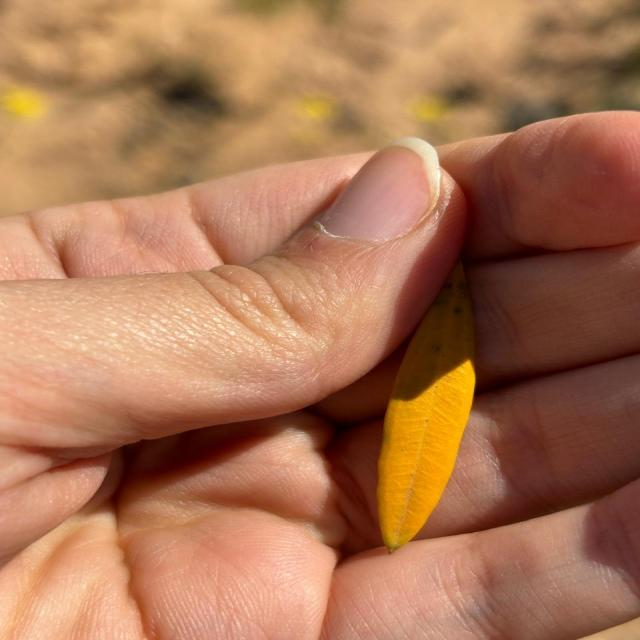Peacock Eye: (377, 264, 476, 552)
